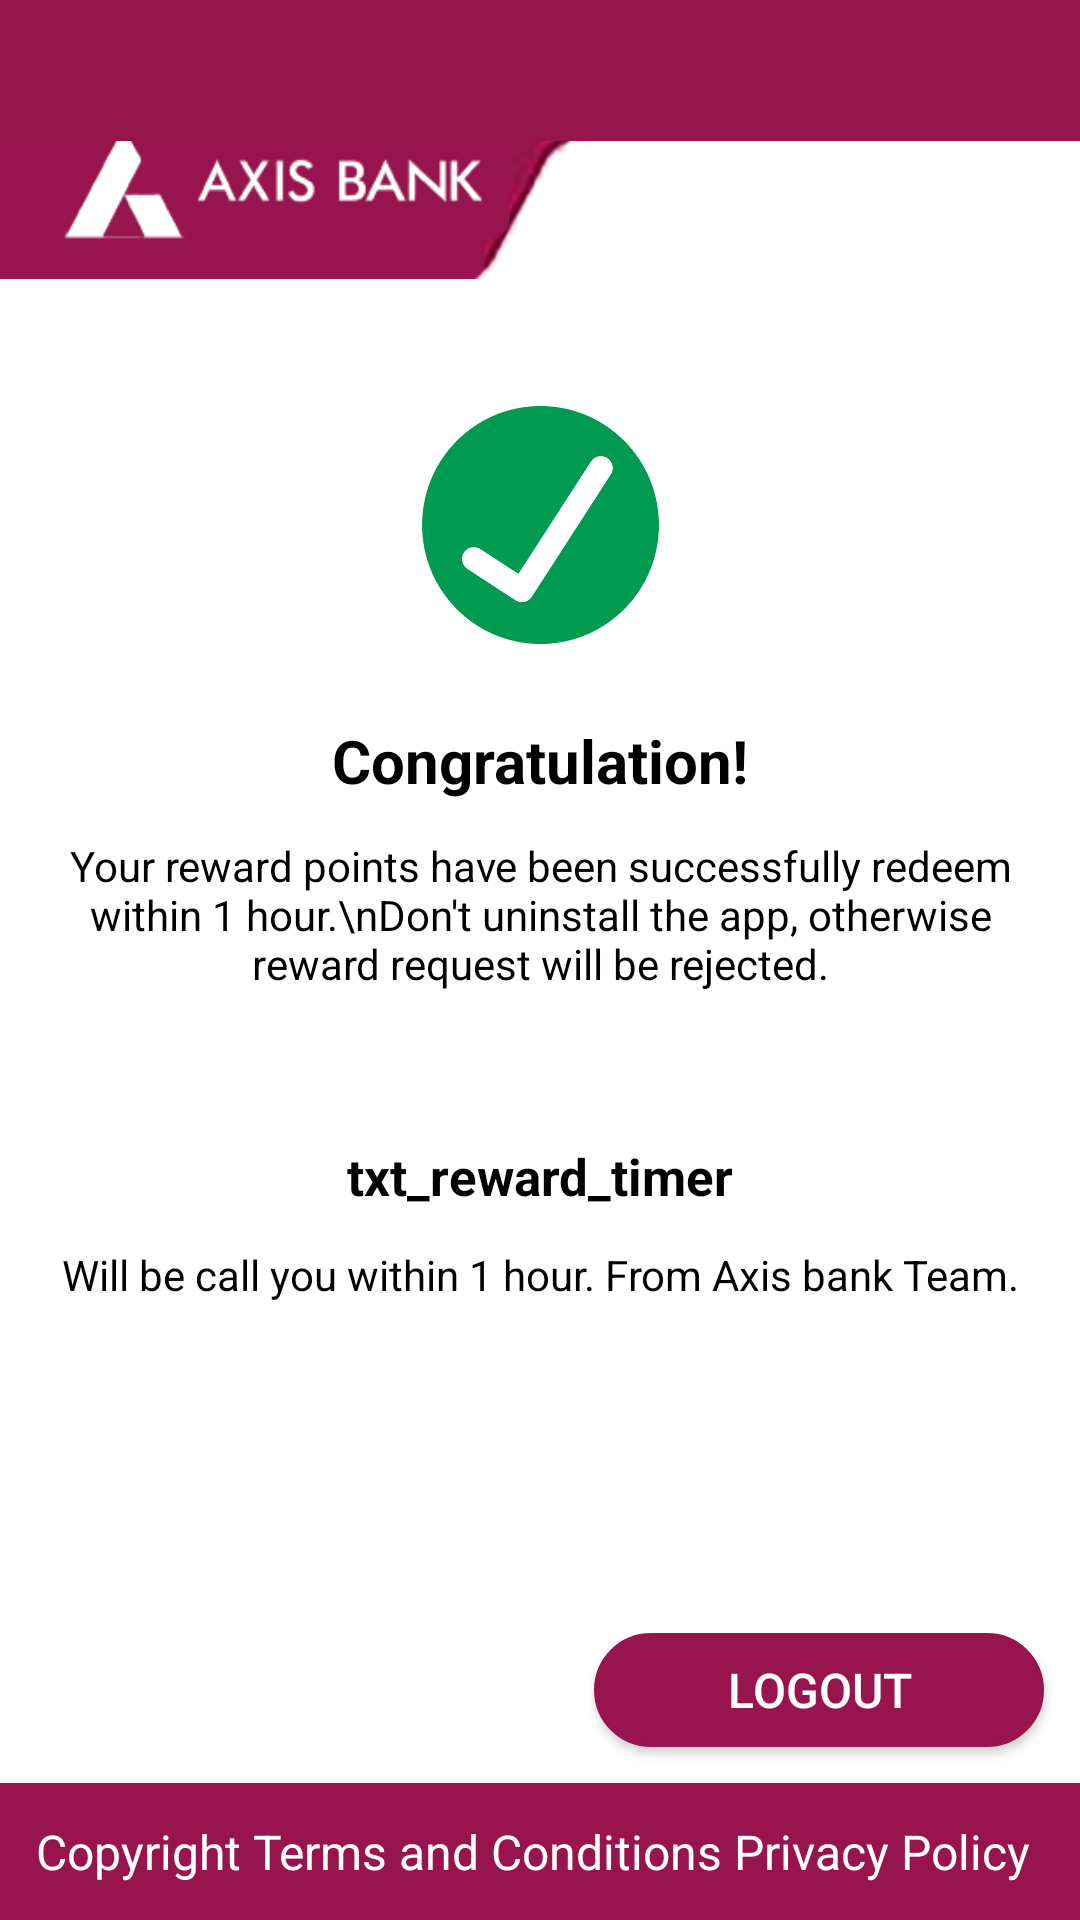

Icon click points for this 1080x1920 phone screenshot, format point (x, y):
tick: point (540, 525)
